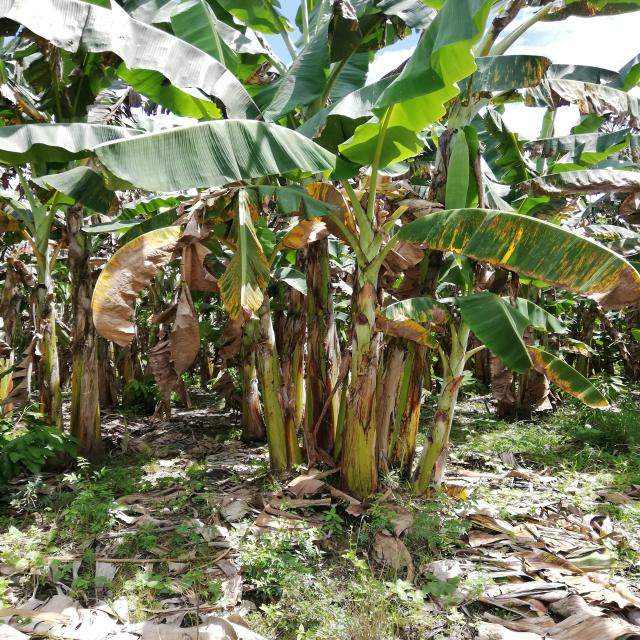Banana-plant: (279, 186, 341, 485), (23, 229, 65, 468), (410, 340, 467, 498), (70, 197, 98, 477), (349, 210, 375, 501)
